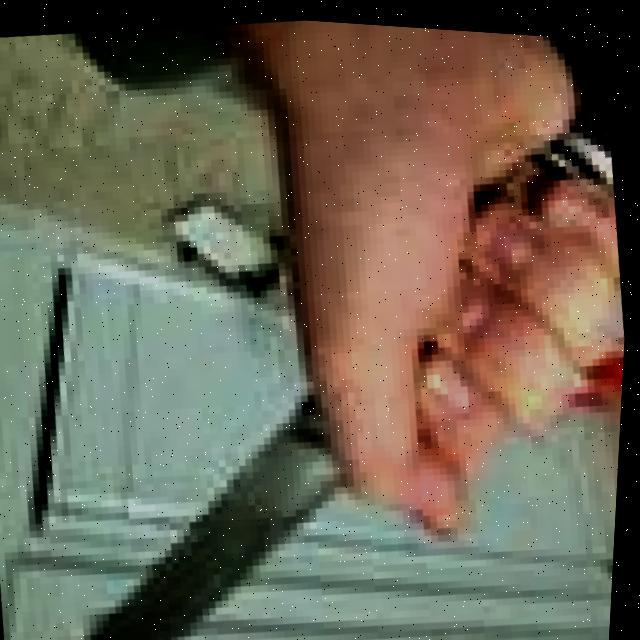knife: (26, 396, 389, 640)
